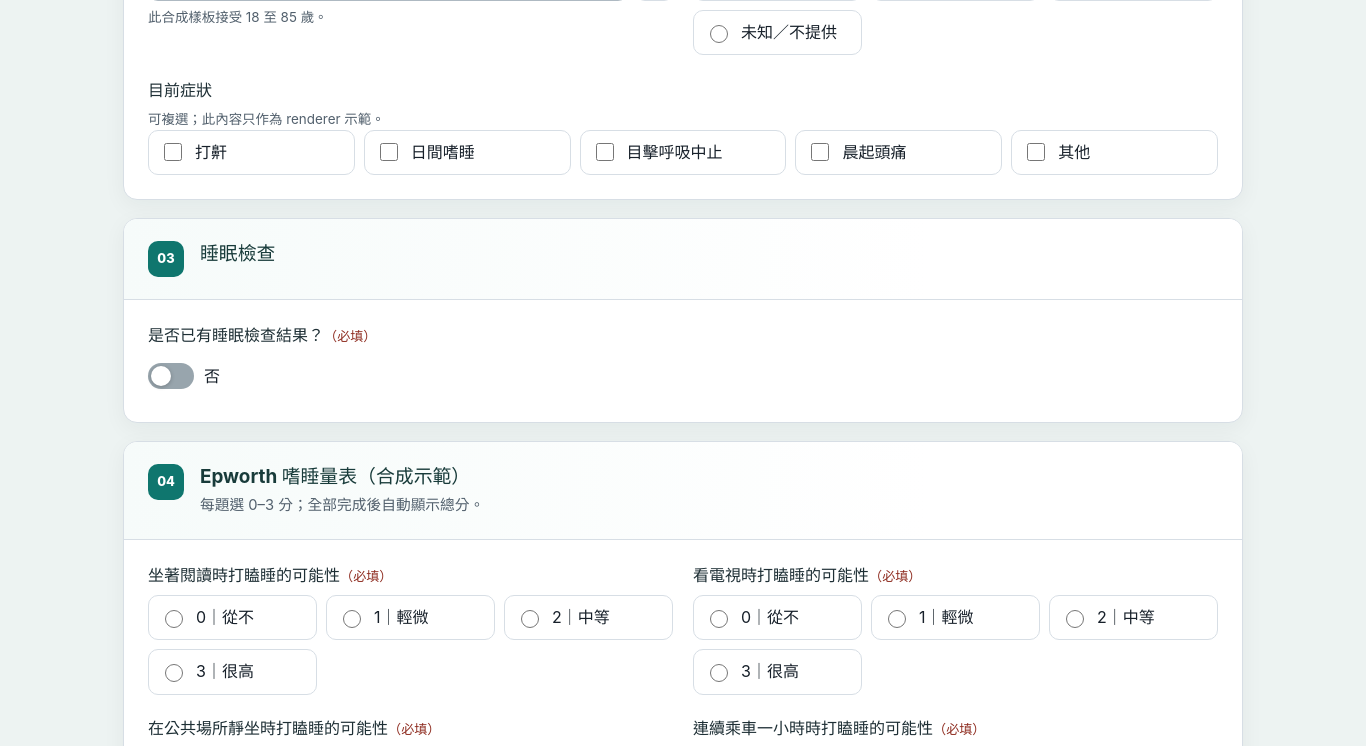
Test: FormRenderer › renders the golden schema and reveals conditional fields
This screenshot has width=1366, height=746.
(page scrolled)
Expected: the text "呼吸中止低通氣指數（AHI）" is not shown
Click the checkbox named "是否已有睡眠檢查結果？": [184, 376] box x1=148 y1=363 x2=220 y2=389
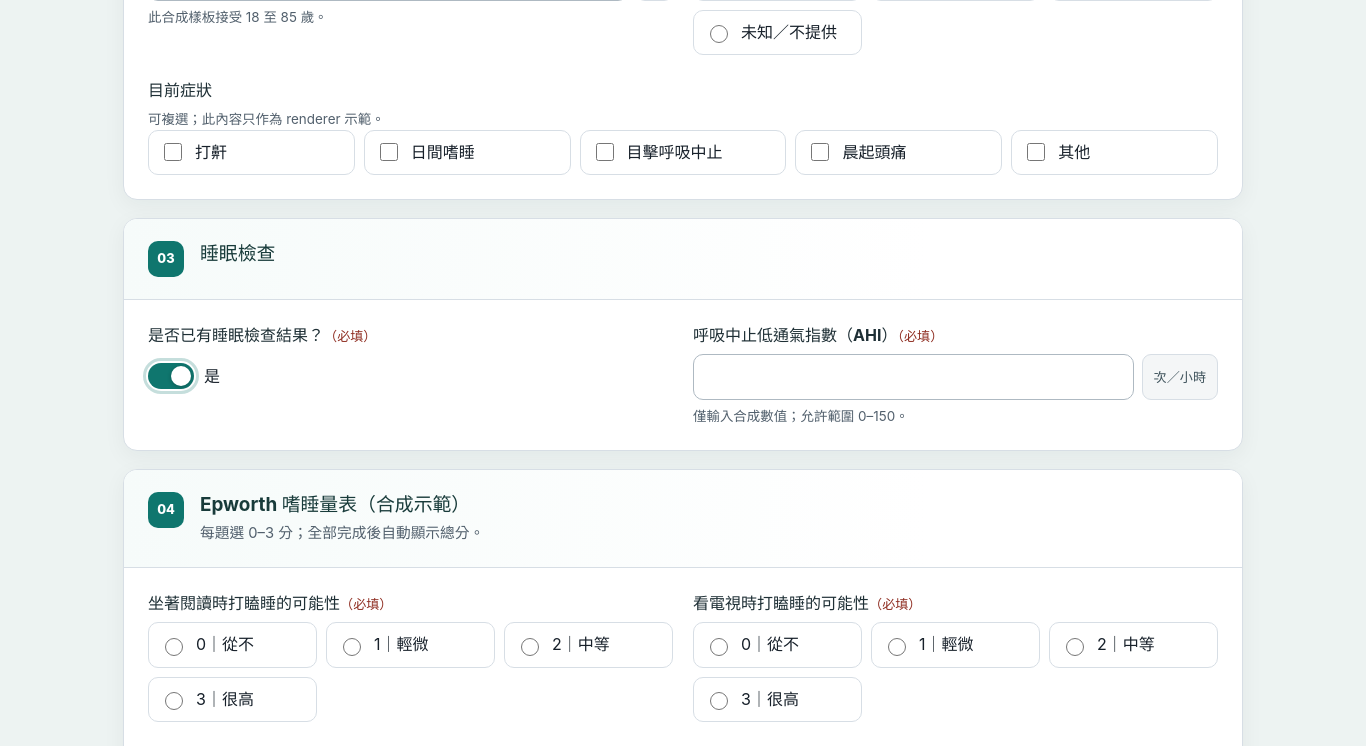
Expected: the text "呼吸中止低通氣指數（AHI）" is shown, x1=693 y1=325 x2=897 y2=345
Expected: the number field labelled "呼吸中止低通氣指數（AHI）（必填）" is shown, x1=693 y1=354 x2=1134 y2=400
